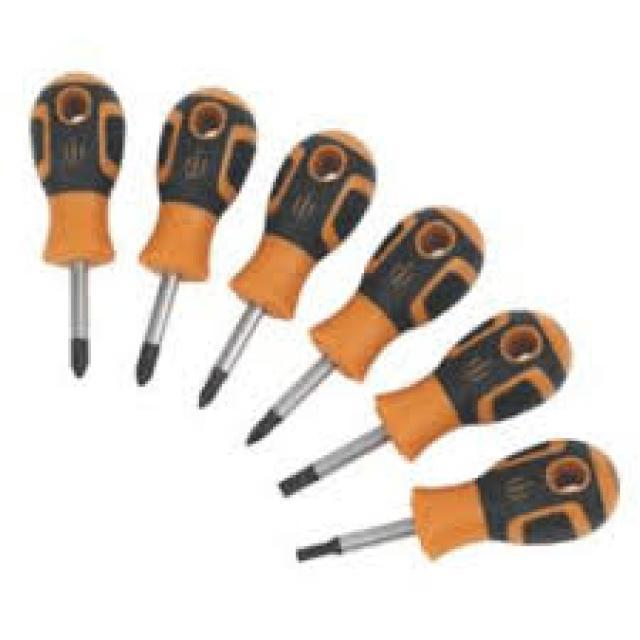screwdriver: (243, 200, 488, 450), (274, 307, 579, 498), (194, 127, 378, 416), (282, 440, 620, 564), (128, 81, 262, 388), (21, 70, 130, 380)
